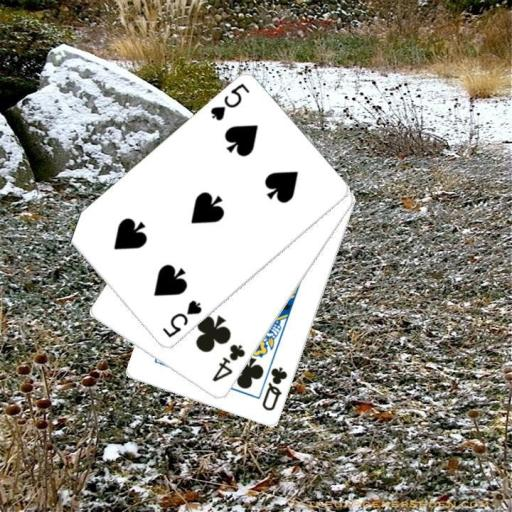4C: (209, 341, 247, 384)
5S: (160, 297, 204, 340), (207, 80, 251, 123)
QC: (259, 364, 289, 414)
